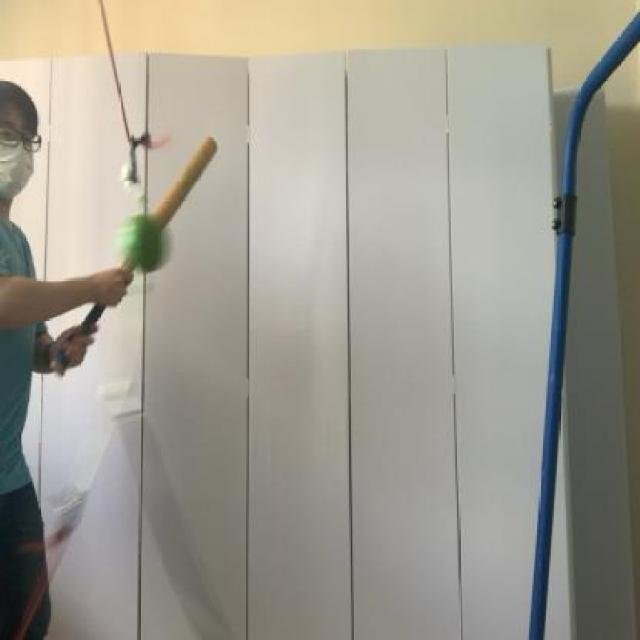baseball: (116, 209, 176, 283)
